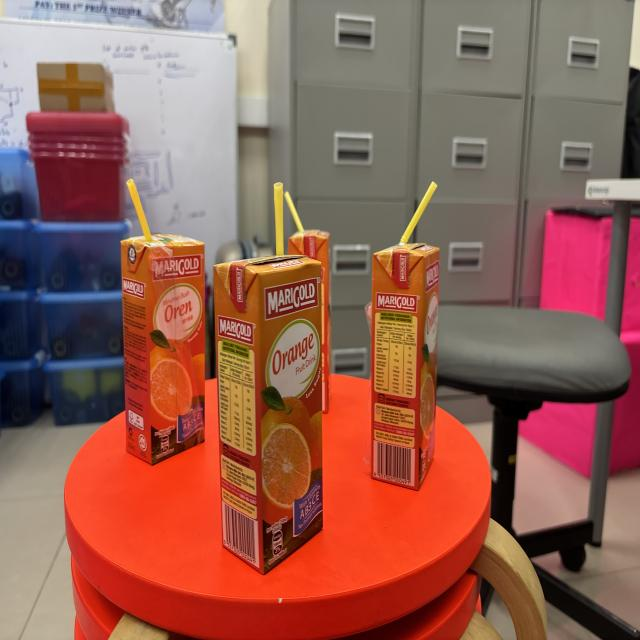drink_carton: (209, 174, 330, 577), (112, 172, 212, 471), (363, 173, 450, 493), (279, 182, 342, 422)
